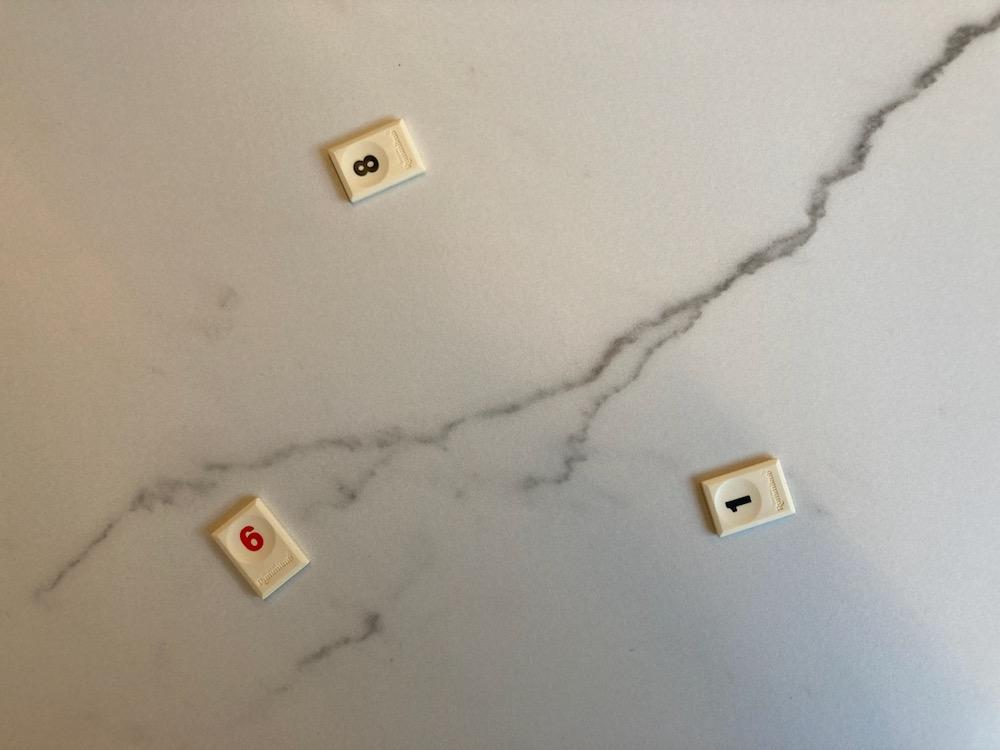black_1: (701, 459, 795, 537)
black_8: (330, 119, 426, 203)
red_6: (213, 498, 309, 598)
